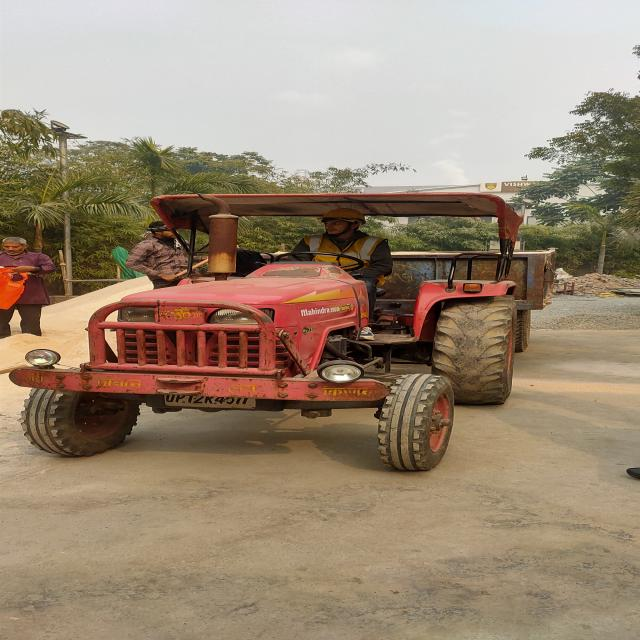safe: (295, 208, 396, 265)
unsafe: (0, 232, 48, 340), (133, 221, 192, 284)
